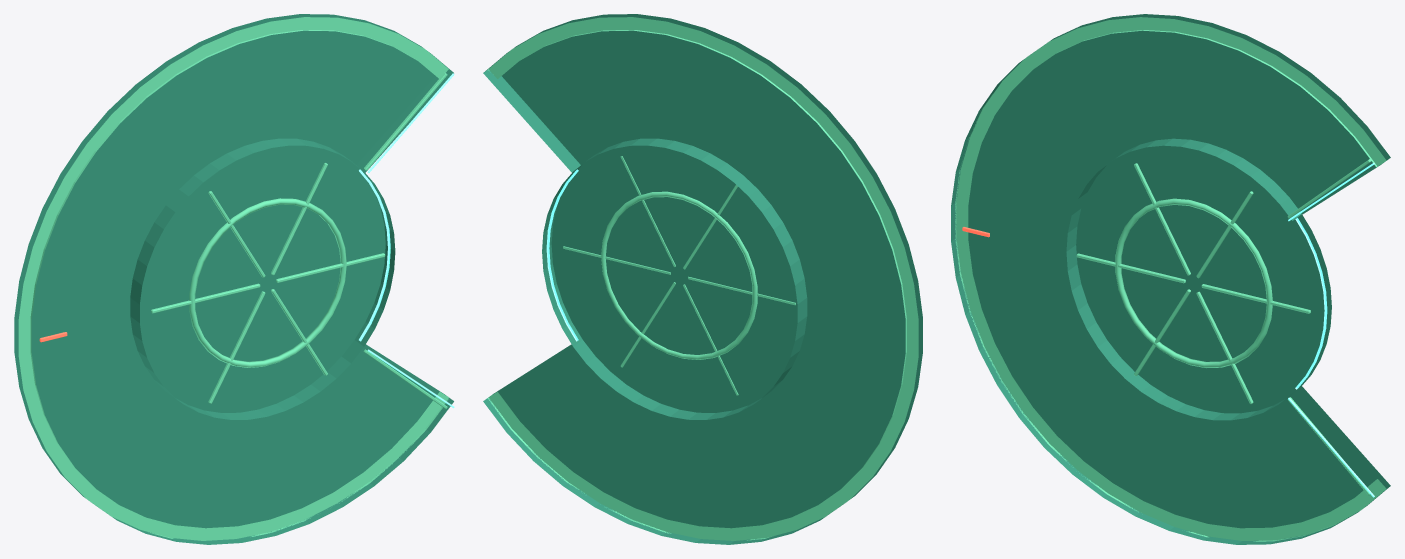
Rendered from bio-panel-fun0-medium.glb.
The picture shows the model from 3 angles, left to right: view 1: azimuth 30°, elevation 25°; view 2: azimuth 150°, elevation 25°; view 3: azimuth 330°, elevation 25°; orthographic projection.
Parts seen in each view (by area): view 1: RENDER_PANEL_SHELL, RENDER_PANEL_FRAME, RENDER_PANEL_SIGNAL; view 2: RENDER_PANEL_SHELL, RENDER_PANEL_FRAME, RENDER_PANEL_SIGNAL; view 3: RENDER_PANEL_SHELL, RENDER_PANEL_FRAME, RENDER_PANEL_SIGNAL.
Part boxes in pixels (<box>): RENDER_PANEL_SHELL: <box>14,14,453,544</box>; RENDER_PANEL_FRAME: <box>18,17,448,540</box>; RENDER_PANEL_SIGNAL: <box>359,73,454,407</box>; RENDER_PANEL_SHELL: <box>483,14,922,544</box>; RENDER_PANEL_FRAME: <box>487,17,918,540</box>; RENDER_PANEL_SIGNAL: <box>546,169,578,341</box>; RENDER_PANEL_SHELL: <box>951,14,1390,544</box>; RENDER_PANEL_FRAME: <box>955,17,1386,541</box>; RENDER_PANEL_SIGNAL: <box>1288,163,1374,497</box>.
Size of what is drawn, in the model's own units: 36.15 by 40.98 by 1.95.
